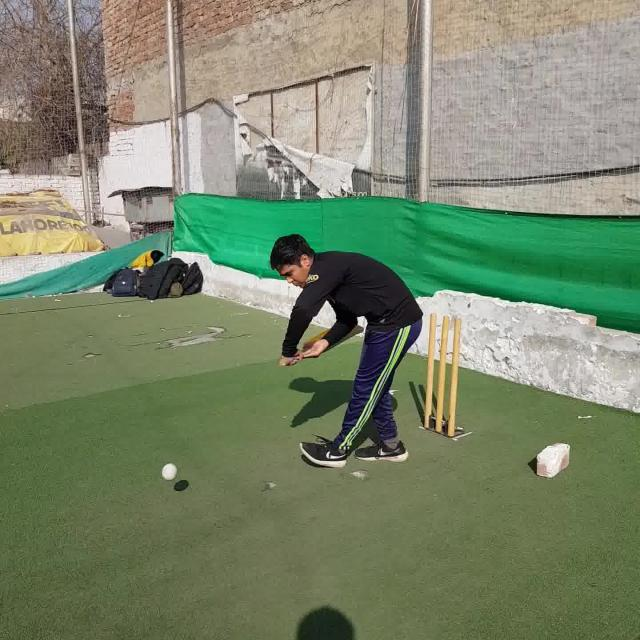ball: (161, 462, 178, 481)
bat: (280, 324, 363, 366)
